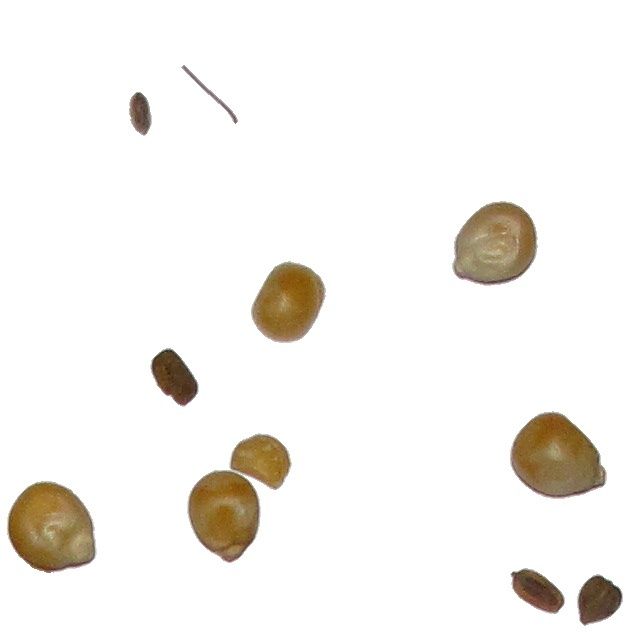buckwheat: (149, 347, 200, 408), (509, 567, 566, 615), (576, 573, 624, 627), (128, 91, 153, 137)
dill: (180, 64, 239, 125)
mais: (509, 410, 608, 500), (6, 480, 98, 574), (451, 200, 539, 287), (186, 469, 262, 564), (250, 260, 327, 344), (228, 432, 293, 491)
